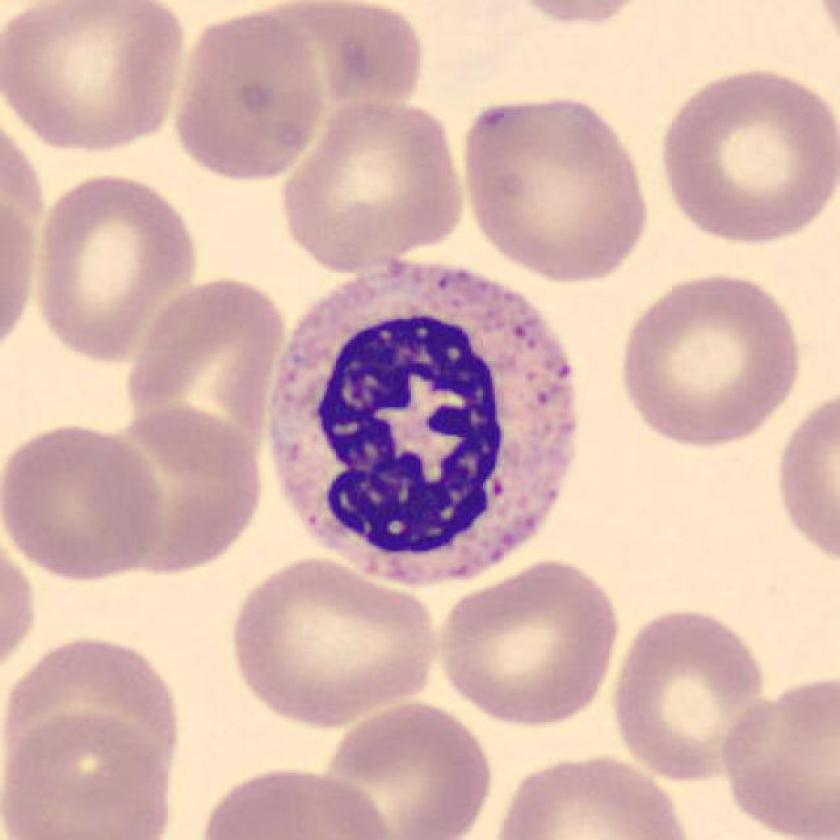neutrophil: (271, 262, 576, 584)
